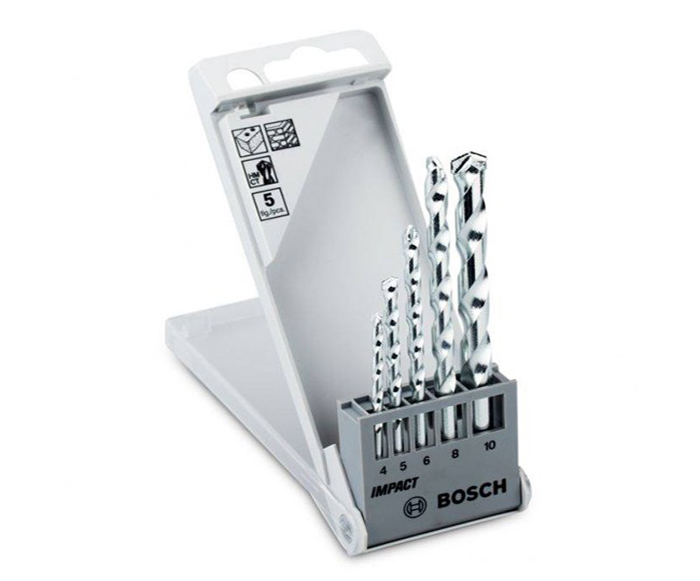Bosch: (434, 473, 515, 514)
